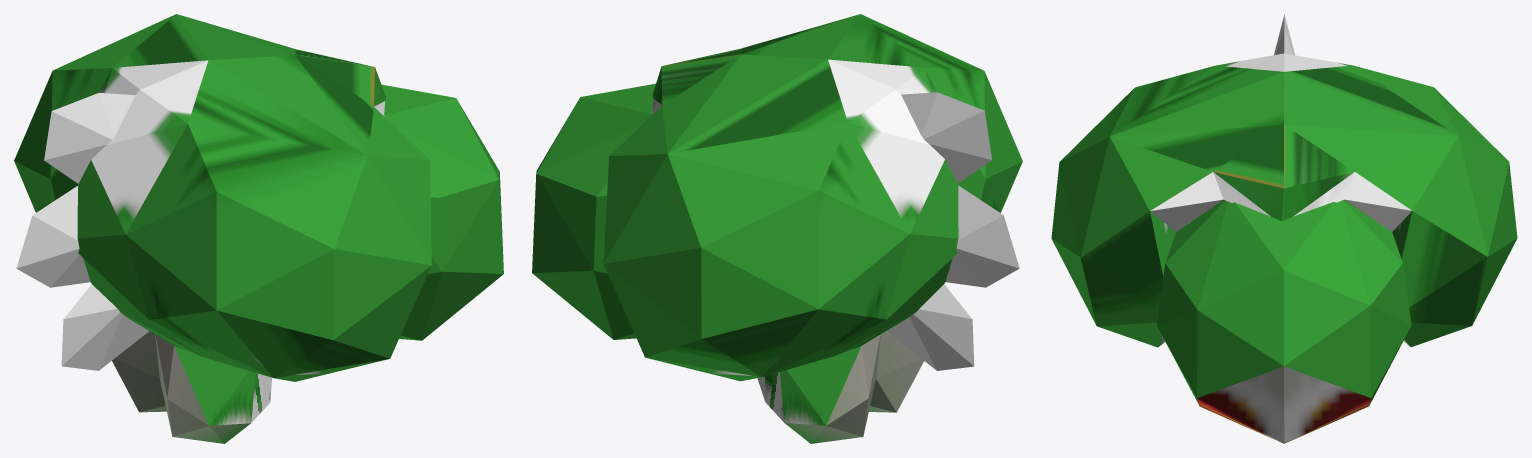
File: yoshi_head_fill.obj
3 renders of one model, left to right at view 1: azimuth 30°, elevation 25°; view 2: azimuth 150°, elevation 25°; view 3: azimuth 270°, elevation 25°, orthographic. The views are drawn at different scales.
Parts seen in each view (by area): view 1: yoshi_head_fill; view 2: yoshi_head_fill; view 3: yoshi_head_fill.
Boxes of the visible parts, x1=… form: yoshi_head_fill: x1=14, y1=14, x2=503, y2=443; yoshi_head_fill: x1=532, y1=14, x2=1022, y2=443; yoshi_head_fill: x1=1051, y1=14, x2=1517, y2=443.
Bounding box in the file's own units: 12.88 × 9.33 × 11.85.
Materials: 2 (2 with a texture image).
